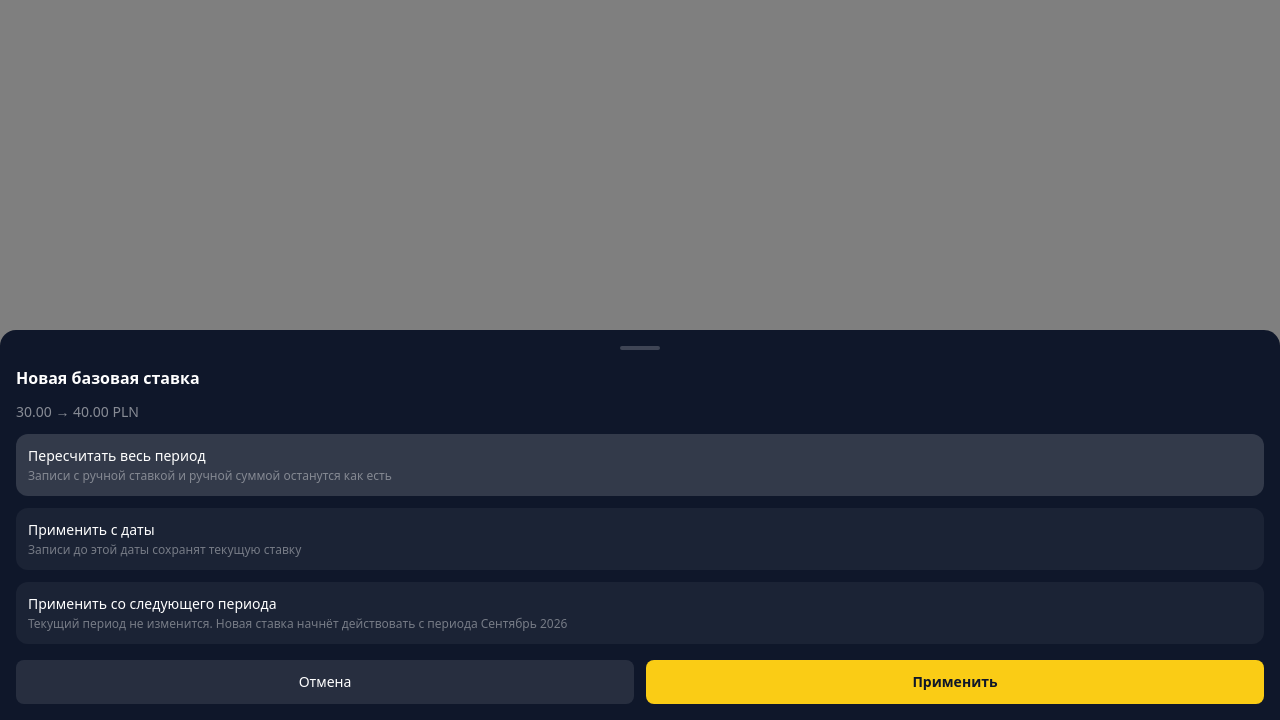
Test: RateChangeDialog › falls back to the period start when today is outside the period
This screenshot has width=1280, height=720.
Click the button "Применить с даты Записи до этой даты сохранят текущую ставку" at {"x": 91, "y": 530}, box [16,508,1264,570]
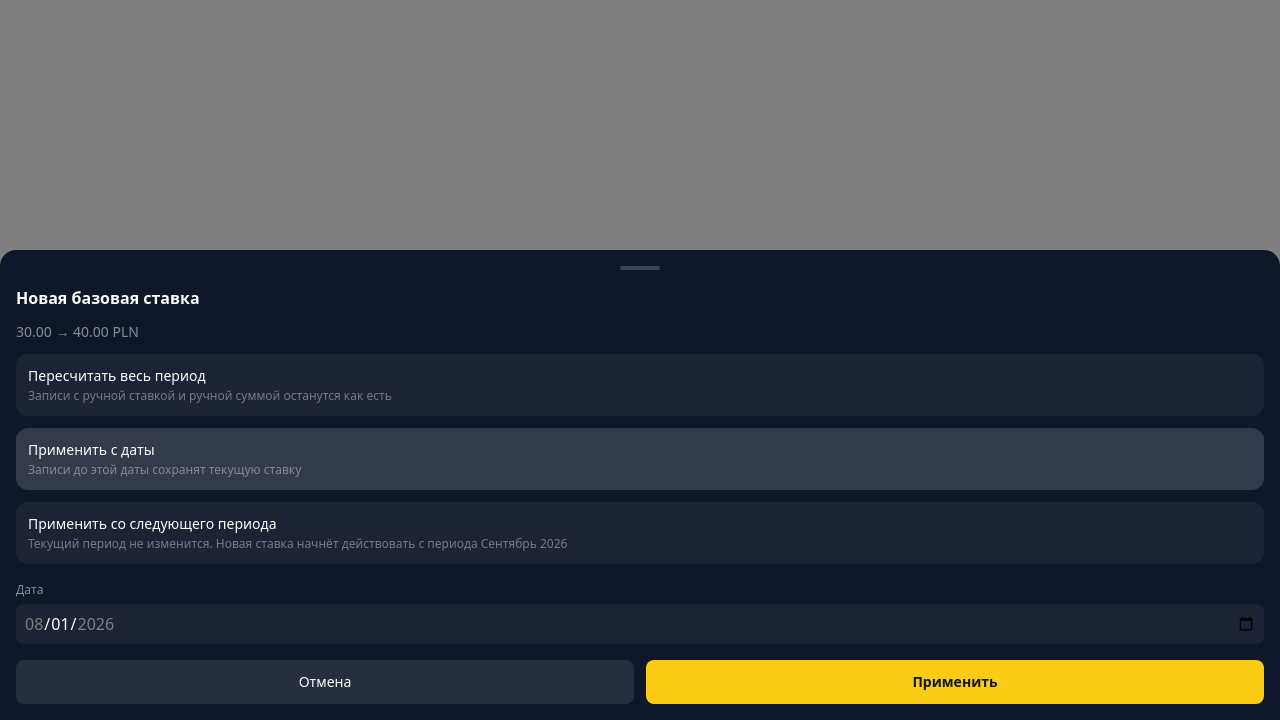
Expected: the date field labelled "Дата" holds "2026-08-01", [16,604,1264,644]
